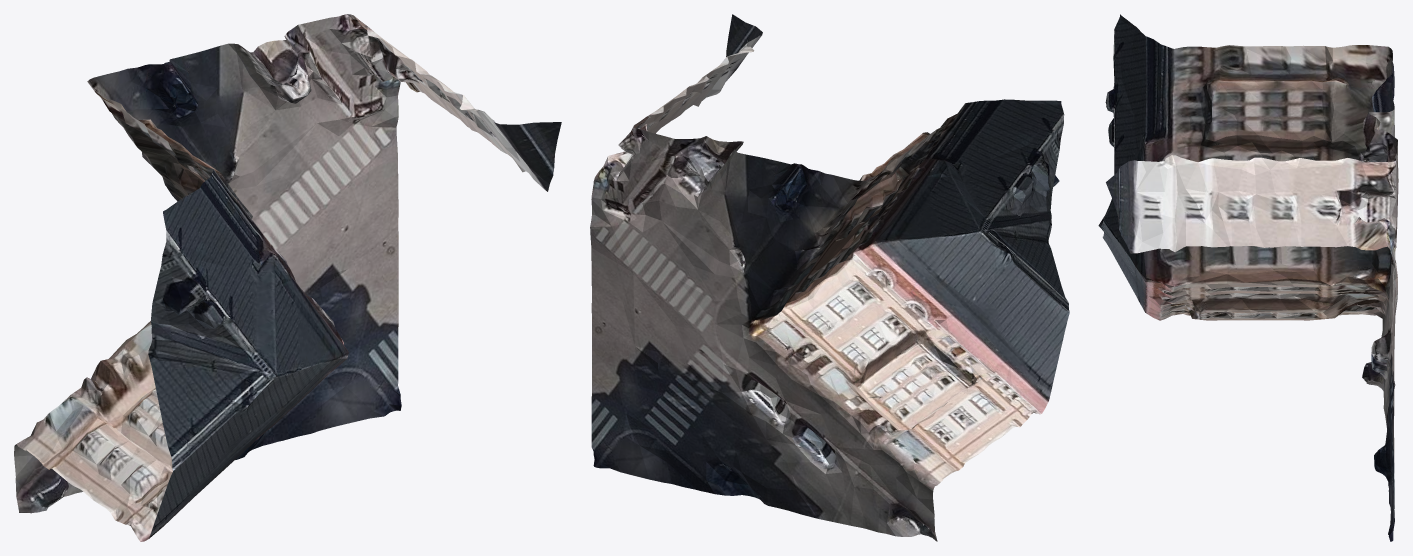
The model's file is Tile_+031_+022_L20_0001000.obj.
3 views of the same model, side by side, from view 1: azimuth 30°, elevation 25°; view 2: azimuth 150°, elevation 25°; view 3: azimuth 270°, elevation 25° (orthographic). The views are drawn at different scales.
Bounding box in the file's own units: 31.5 × 31.38 × 23.73.
1 material, 1 textured.
